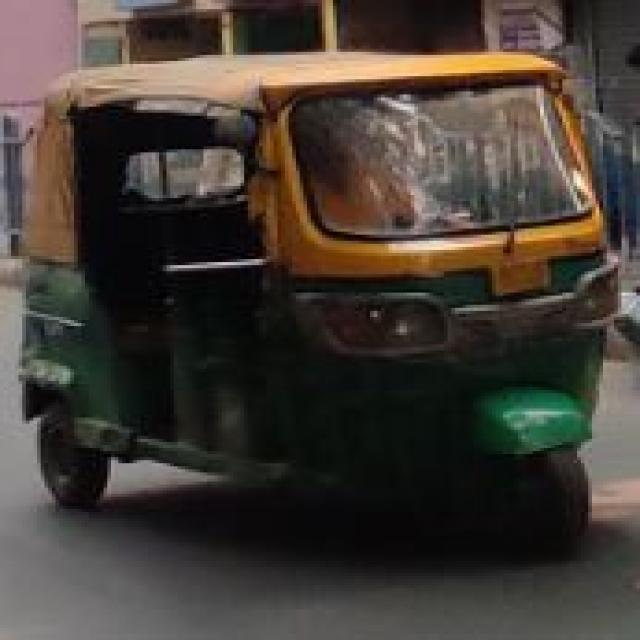autorickshaw: (15, 48, 629, 554)
